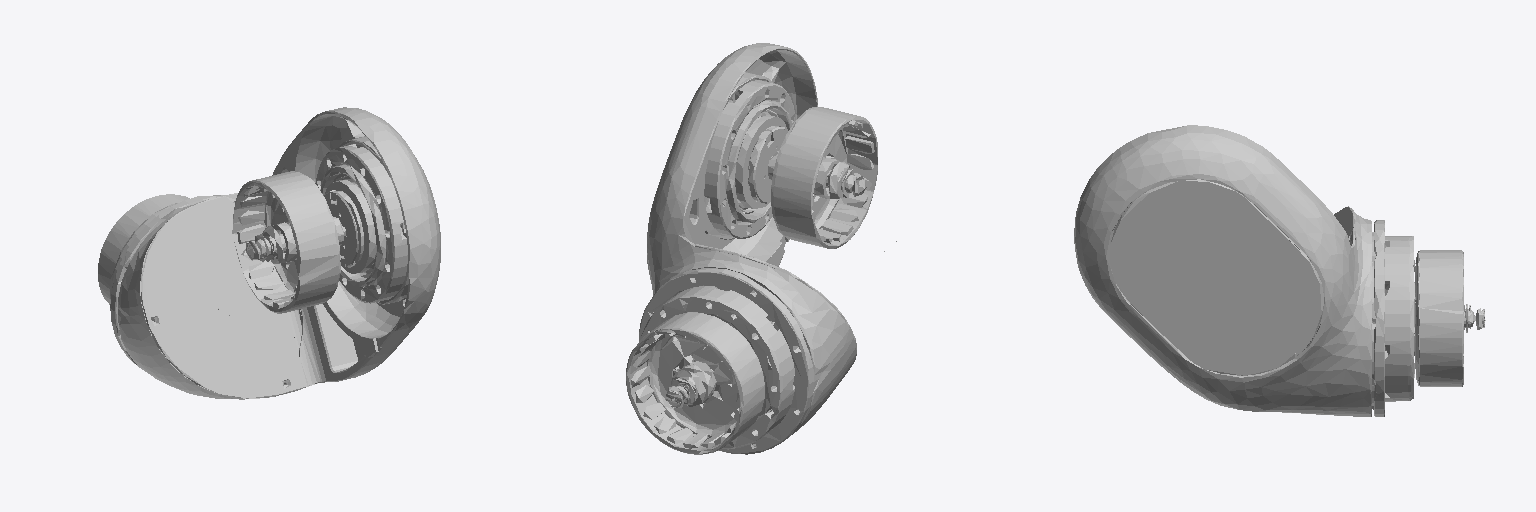
Rendered from right_upper_arm_roll_link.obj.
3 renders of one model, left to right at view 1: azimuth 30°, elevation 25°; view 2: azimuth 150°, elevation 25°; view 3: azimuth 270°, elevation 25°, orthographic.
Visible parts, largest first — view 1: right_upper_arm_roll_link; view 2: right_upper_arm_roll_link; view 3: right_upper_arm_roll_link.
Part boxes in pixels (left/top/right/bottom): right_upper_arm_roll_link: left=98, top=107, right=440, bottom=399; right_upper_arm_roll_link: left=626, top=43, right=896, bottom=454; right_upper_arm_roll_link: left=1074, top=125, right=1485, bottom=416.
Size of the model in its own units: 0.0712 by 0.1079 by 0.1291.